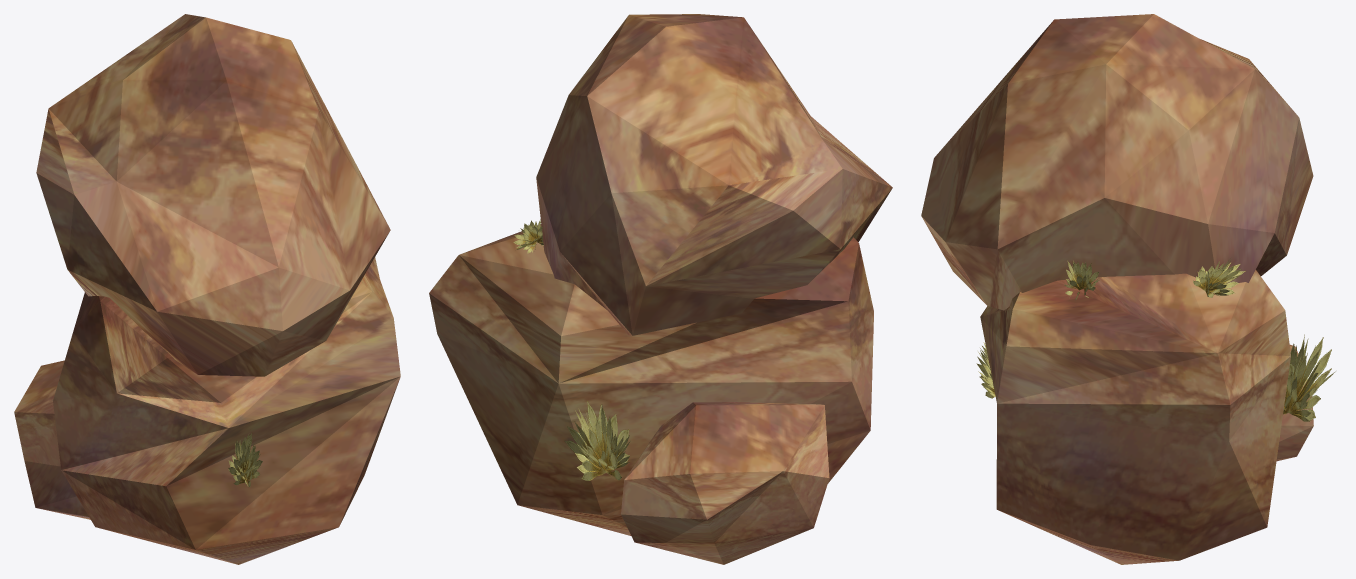
File: C2SNROCKFEAT4H.obj
3 views of the same model, side by side, from view 1: azimuth 30°, elevation 25°; view 2: azimuth 150°, elevation 25°; view 3: azimuth 270°, elevation 25° (orthographic).
Parts seen in each view (by area): view 1: Node 0; view 2: Node 0; view 3: Node 0.
Part boxes in pixels (left/top/right/bottom): Node 0: left=14, top=14, right=400, bottom=564; Node 0: left=429, top=14, right=892, bottom=564; Node 0: left=921, top=14, right=1335, bottom=564.
Size of the model in its own units: 21.95 by 30.01 by 21.07.
Materials: 1 (1 with a texture image).
